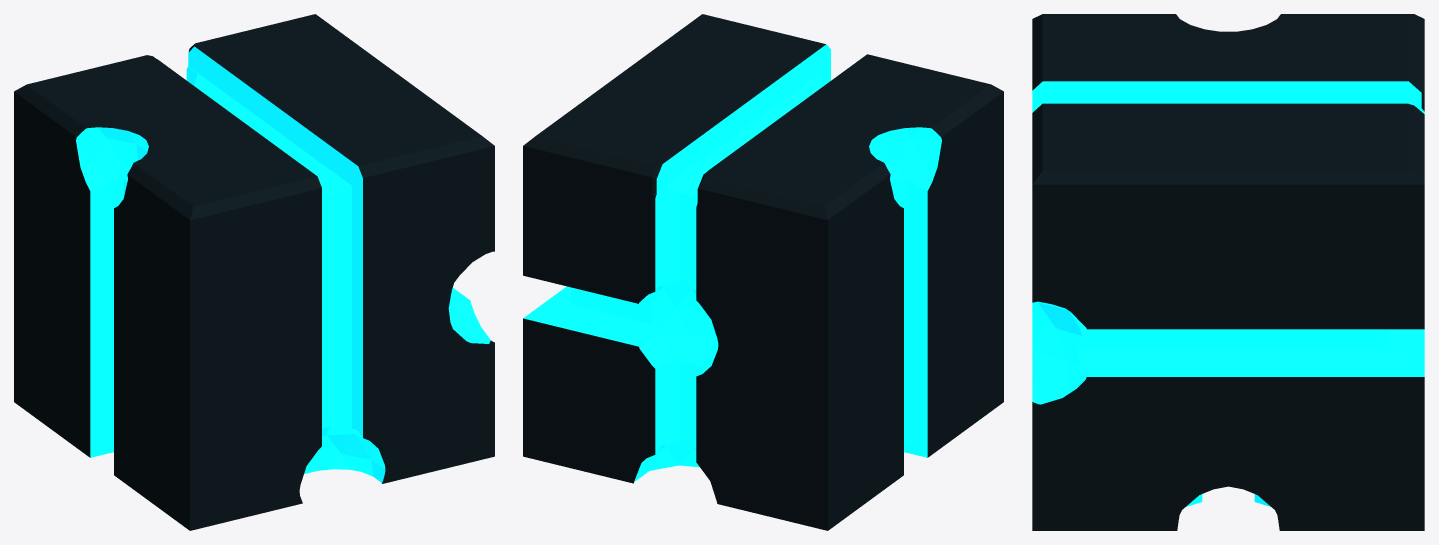
Rendered from techCube.fbx.
3 renders of one model, left to right at view 1: azimuth 30°, elevation 25°; view 2: azimuth 150°, elevation 25°; view 3: azimuth 270°, elevation 25°, orthographic. The views are drawn at different scales.
Visible parts, largest first — view 1: Cube; view 2: Cube; view 3: Cube.
Part boxes in pixels (box(x1,y1,x2,y2)): Cube: box(14, 14, 494, 530); Cube: box(523, 14, 1003, 530); Cube: box(1032, 14, 1424, 530).
Size of the model in its own units: 200 by 200 by 200.
